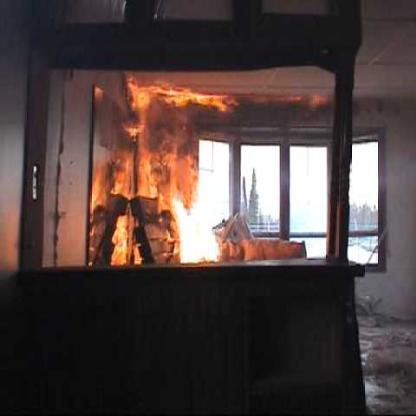fire: (87, 82, 332, 266)
